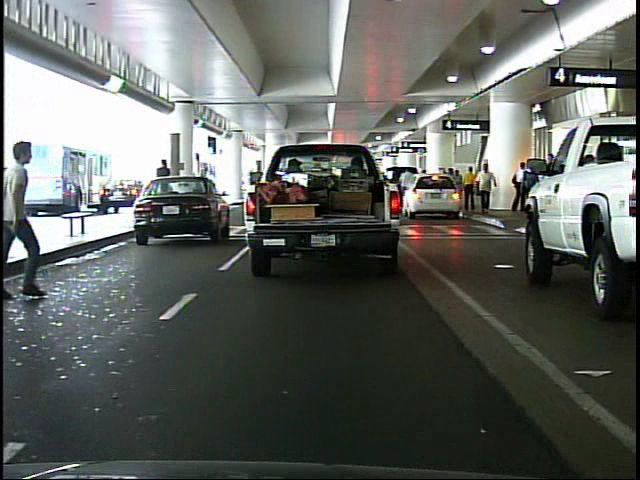person: (3, 127, 86, 314), (151, 155, 177, 219), (472, 156, 495, 217), (511, 155, 530, 216), (458, 160, 477, 220)
